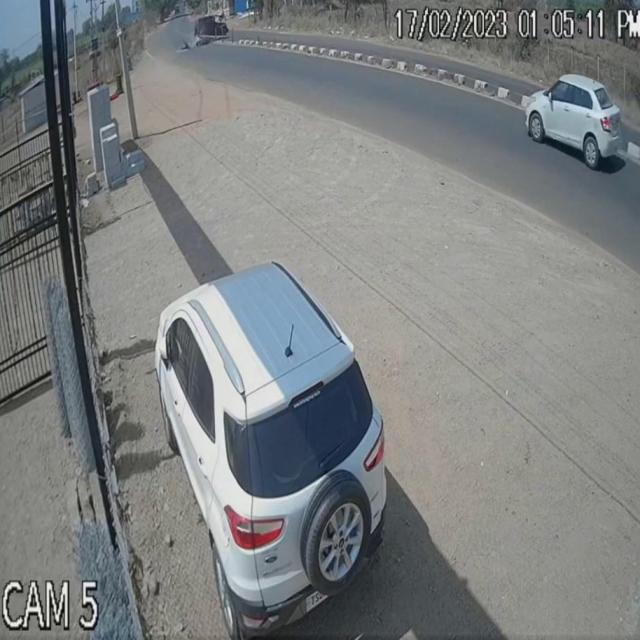accident: (182, 10, 233, 58)
